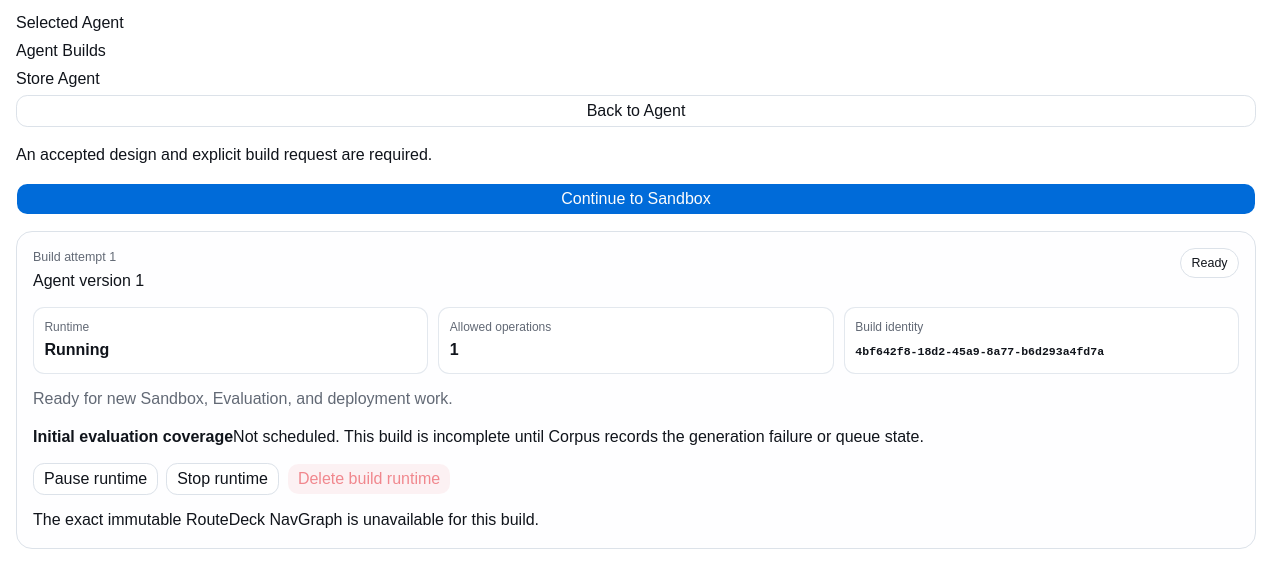
Scenario: pauses admission durably and resumes only through the exact build action
The width and height of the screenshot is (1273, 566).
What coordinates should you click on to do the following:
click the button "Pause runtime"
I would click on:
 (96, 479)
Its box is [33, 463, 158, 495].
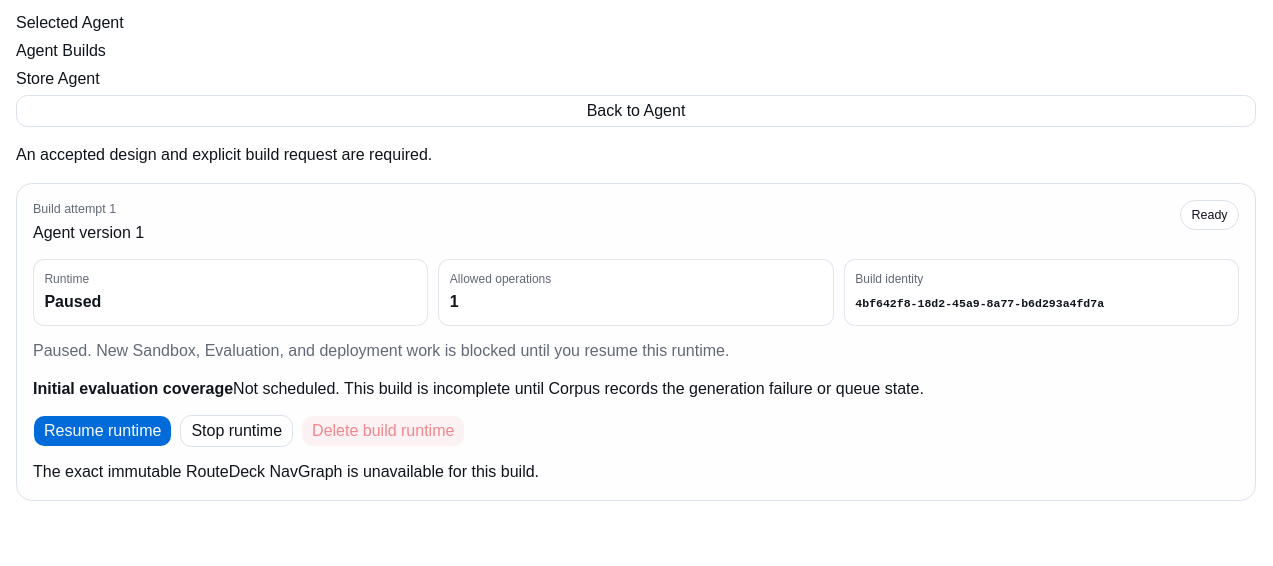
Check: the button "Delete build runtime" is disabled, box [301, 415, 465, 447]
Check: the text "Paused. New Sandbox, Evaluation, and deployment work is blocked" is shown, box [33, 342, 729, 360]
Check: the button "Continue to Sandbox" is gone
What coordinates should you click on to do the following:
click the button "Resume runtime"
I would click on:
 (103, 431)
Its box is [33, 415, 172, 447].
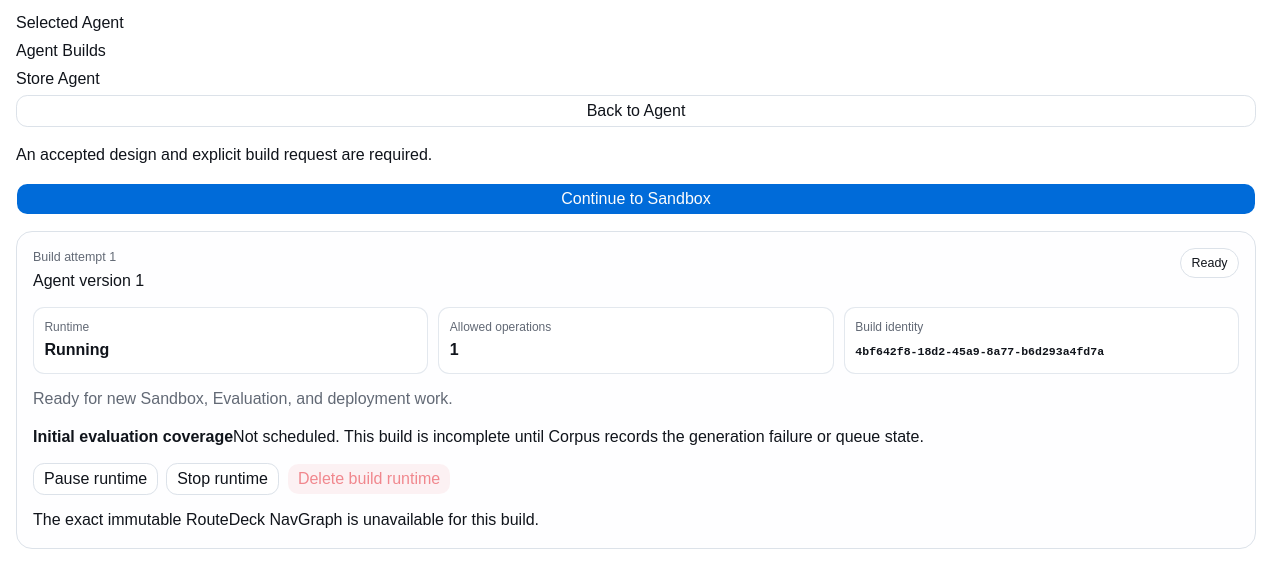
Check: the text "Ready for new Sandbox, Evaluation, and deployment work." is shown, box [33, 390, 453, 408]
